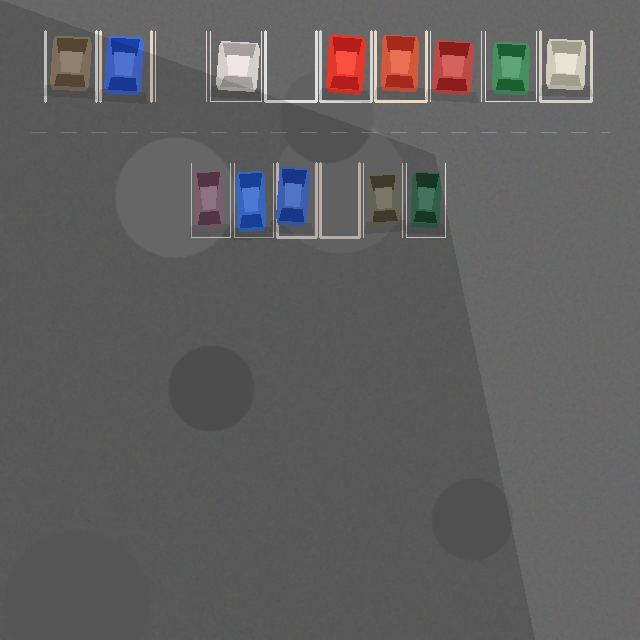space-empty: (155, 31, 206, 101), (265, 31, 316, 101), (320, 163, 359, 237)
space-occupied: (45, 31, 96, 101), (100, 31, 151, 101), (210, 31, 261, 101), (320, 31, 371, 101), (375, 31, 426, 101), (430, 31, 481, 101), (485, 31, 536, 101), (540, 31, 591, 101), (191, 163, 230, 237), (234, 163, 273, 237), (277, 163, 316, 237), (363, 163, 402, 237), (406, 163, 445, 237)
